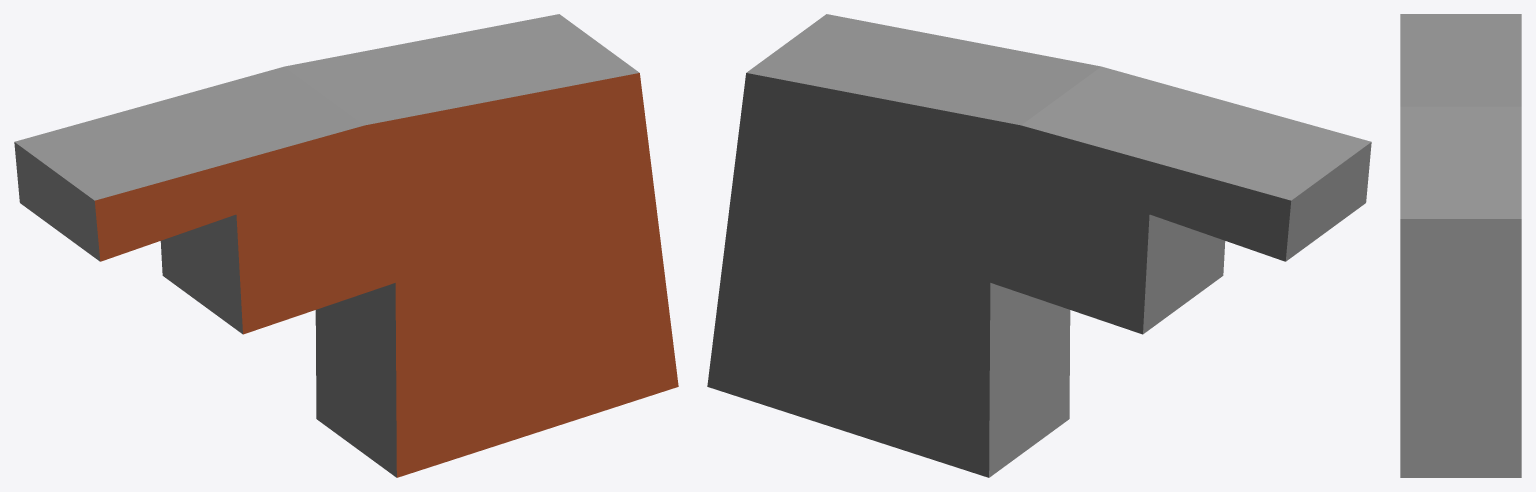
File: construction_0720_assumed_A_Casa_h6m.obj
The picture shows the model from 3 angles, left to right: view 1: azimuth 30°, elevation 25°; view 2: azimuth 150°, elevation 25°; view 3: azimuth 270°, elevation 25°; orthographic projection. The views are drawn at different scales.
Visible parts, largest first — view 1: construction_0720_assumed_A_Casa; view 2: construction_0720_assumed_A_Casa; view 3: construction_0720_assumed_A_Casa.
Boxes of the visible parts, left/top/right/bottom form: construction_0720_assumed_A_Casa: left=14, top=14, right=678, bottom=477; construction_0720_assumed_A_Casa: left=707, top=14, right=1371, bottom=477; construction_0720_assumed_A_Casa: left=1400, top=14, right=1521, bottom=477.
Size of the model in its own units: 25.15 by 14.83 by 6.
